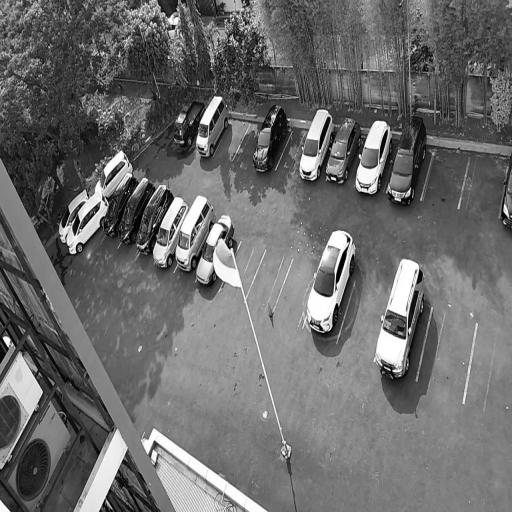Car: (370, 252, 431, 384), (303, 222, 361, 336), (384, 109, 433, 207), (351, 110, 396, 196), (193, 208, 239, 290), (174, 192, 219, 271), (294, 105, 339, 183), (249, 97, 294, 174), (150, 191, 191, 271), (322, 112, 366, 185), (133, 182, 176, 256), (115, 174, 157, 247), (193, 90, 234, 159), (65, 191, 109, 255), (101, 170, 140, 239), (94, 147, 134, 201), (172, 92, 208, 149), (57, 186, 91, 245), (500, 146, 512, 229)
Space Available: (417, 305, 477, 399), (463, 319, 512, 413), (337, 279, 389, 355), (459, 154, 507, 217), (246, 248, 293, 310), (272, 259, 316, 325), (421, 149, 471, 207), (219, 241, 266, 300), (213, 120, 250, 160), (276, 130, 307, 171), (233, 124, 262, 163)
